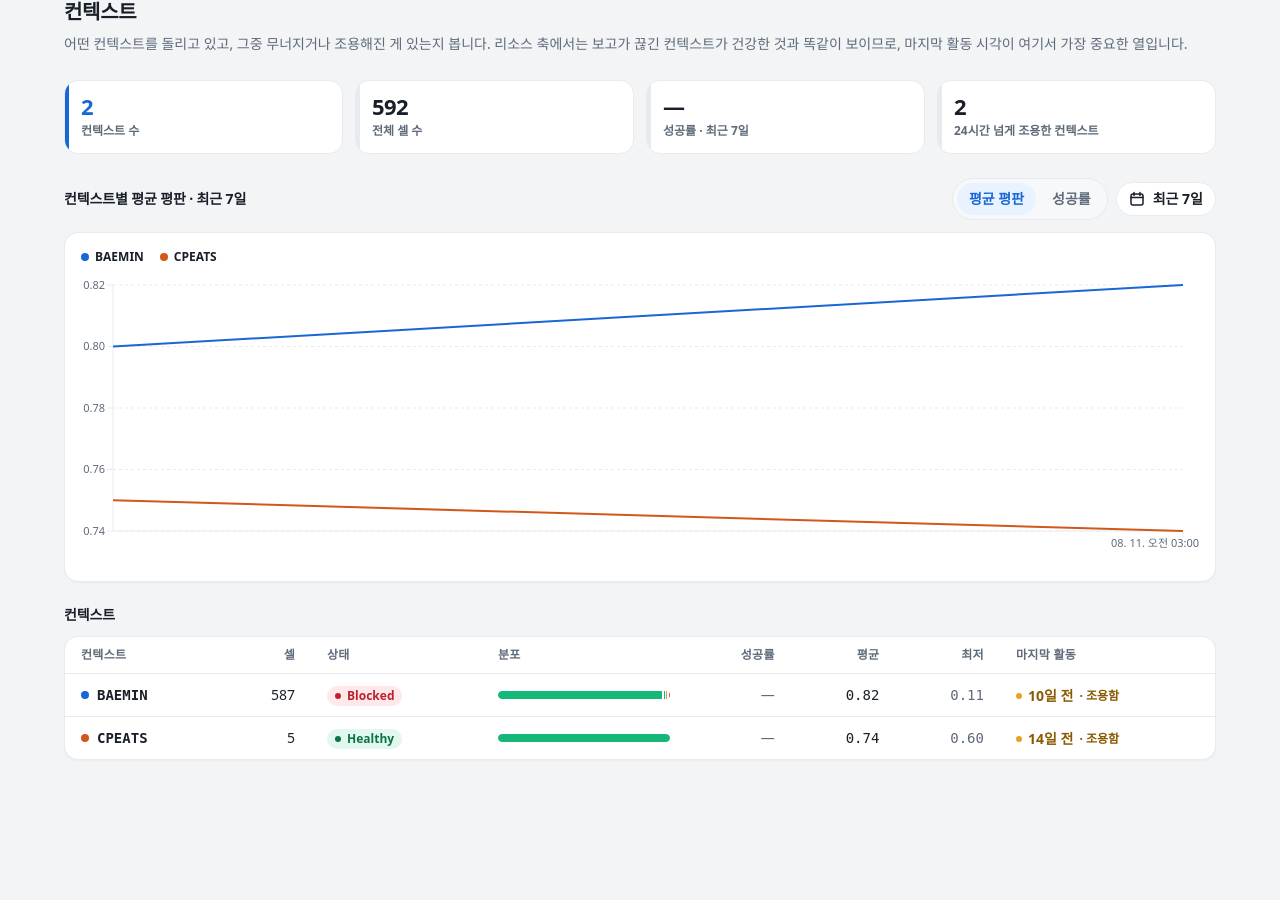
Test case: 컨텍스트 화면 — 성공률 (#189) › 느린 이전 기간 응답이 뒤늦게 도착해도 → 최신 기간의 성공률을 덮어쓰지 않는다
Expected: the heading "컨텍스트별 평균 평판 · 최근 7일" is shown, x1=64 y1=190 x2=246 y2=208
What coordinates should you click on to do the following:
click the button with aria-label "추이 기간 선택"
I would click on:
 (1166, 199)
Its box is x1=1116 y1=182 x2=1216 y2=216.
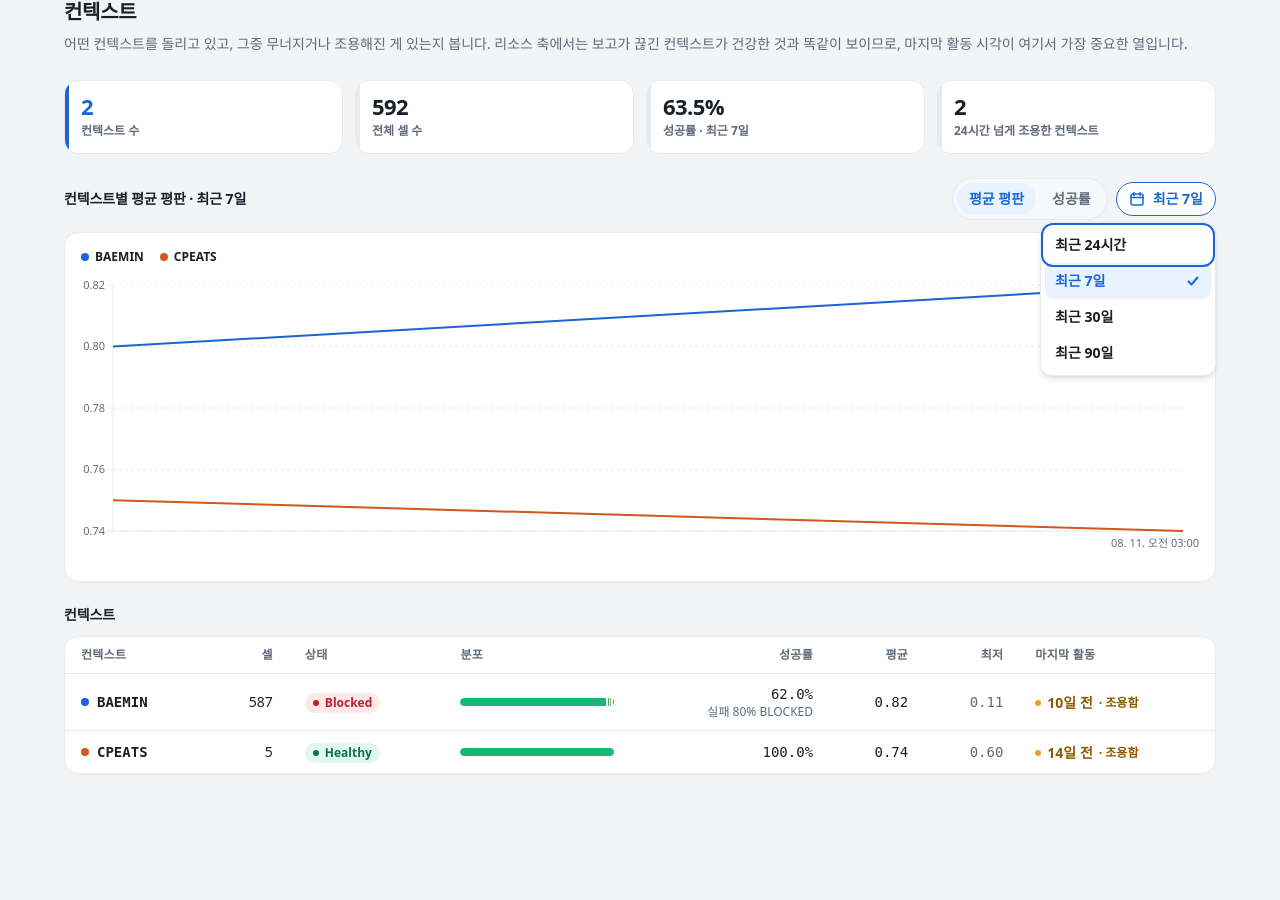
What coordinates should you click on to do the following:
click the button "최근 90일"
I would click on:
 (1128, 353)
Its box is x1=1045 y1=335 x2=1211 y2=371.
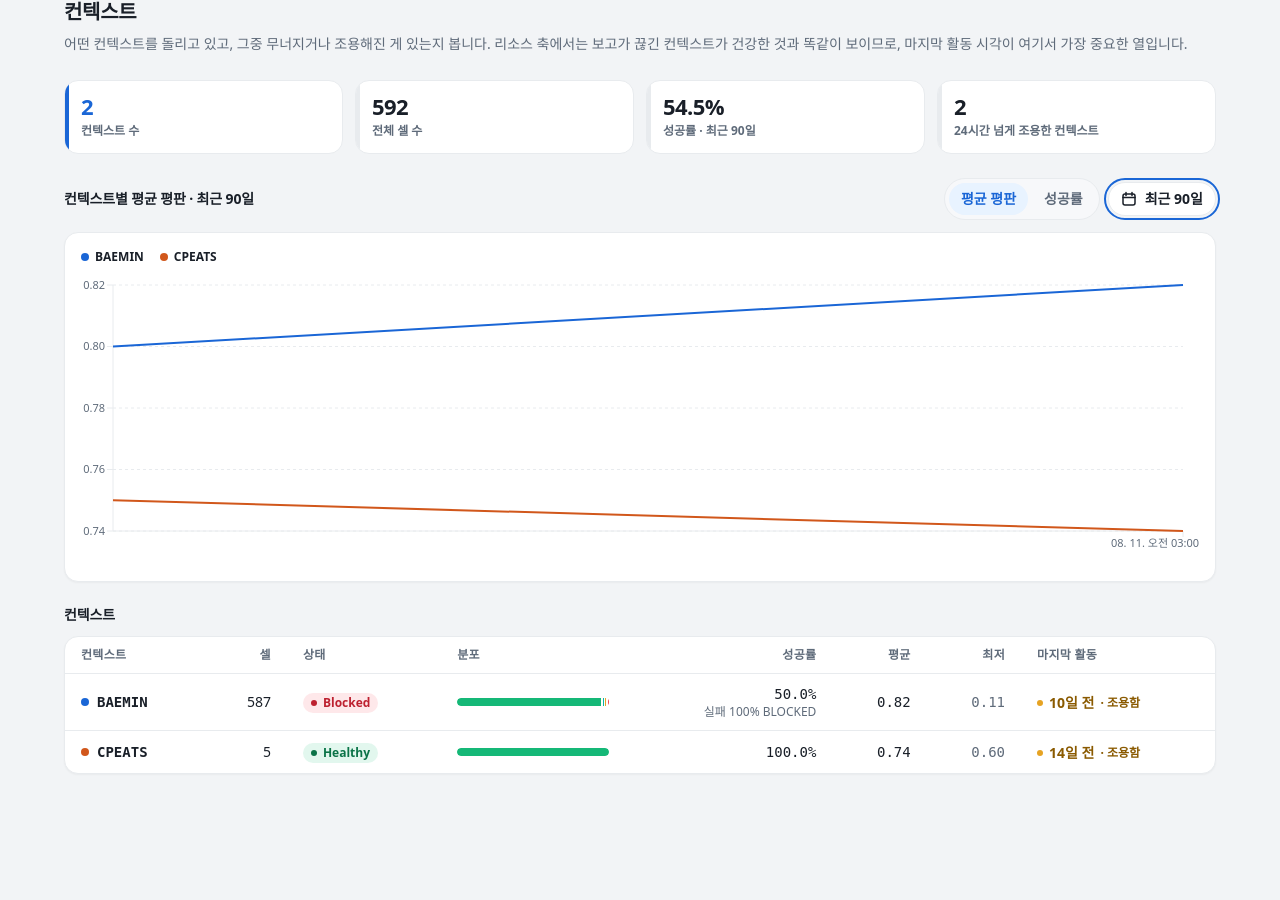
Expected: the text "63.5%" is gone
Expected: the text "54.5%" is shown, x1=663 y1=95 x2=724 y2=117
